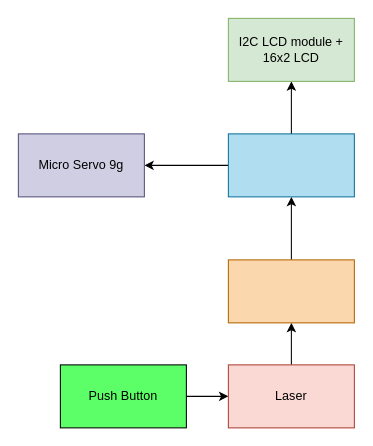
Image size: 373x446. Some labels were removed from this diagram. The shapes that lost their labels are listed below. From the top down, each one's centre as x and y in pixels, then its label:
(x=290, y=165): Arduino UNO R3 ATmega328P
(x=290, y=291): Sensor LDR
